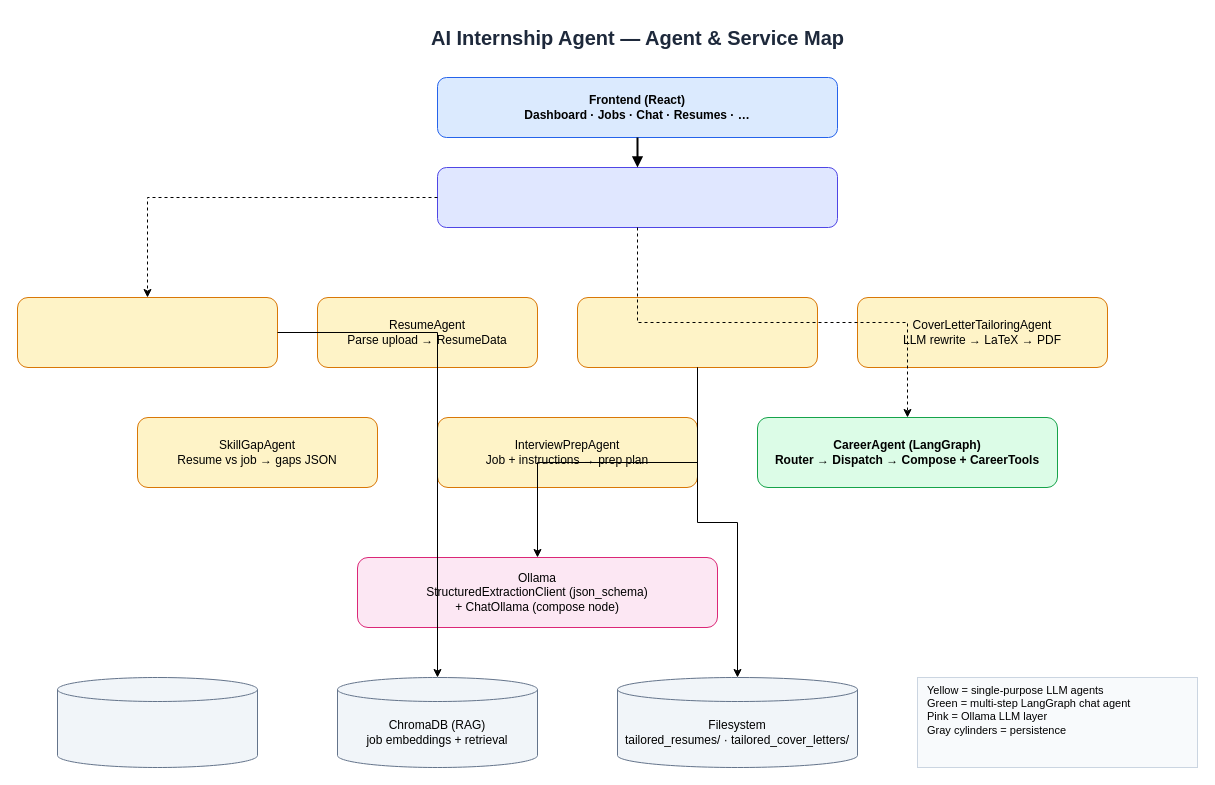
The diagram is 1215 pixels wide and 785 high, and some of its shapes have lost their labels. Each missing label, with the centre of its shape:
FastAPI (app/api/*) JWT cookie auth on all business routes: the point at 637,197
MatchingOrchestrator Profile + JobRetrievalAgent → RAG matches: the point at 147,332
PostgreSQL users · jobs · user_details · conversations: the point at 157,722
ResumeTailoringAgent LLM rewrite → LaTeX → PDF: the point at 697,332
